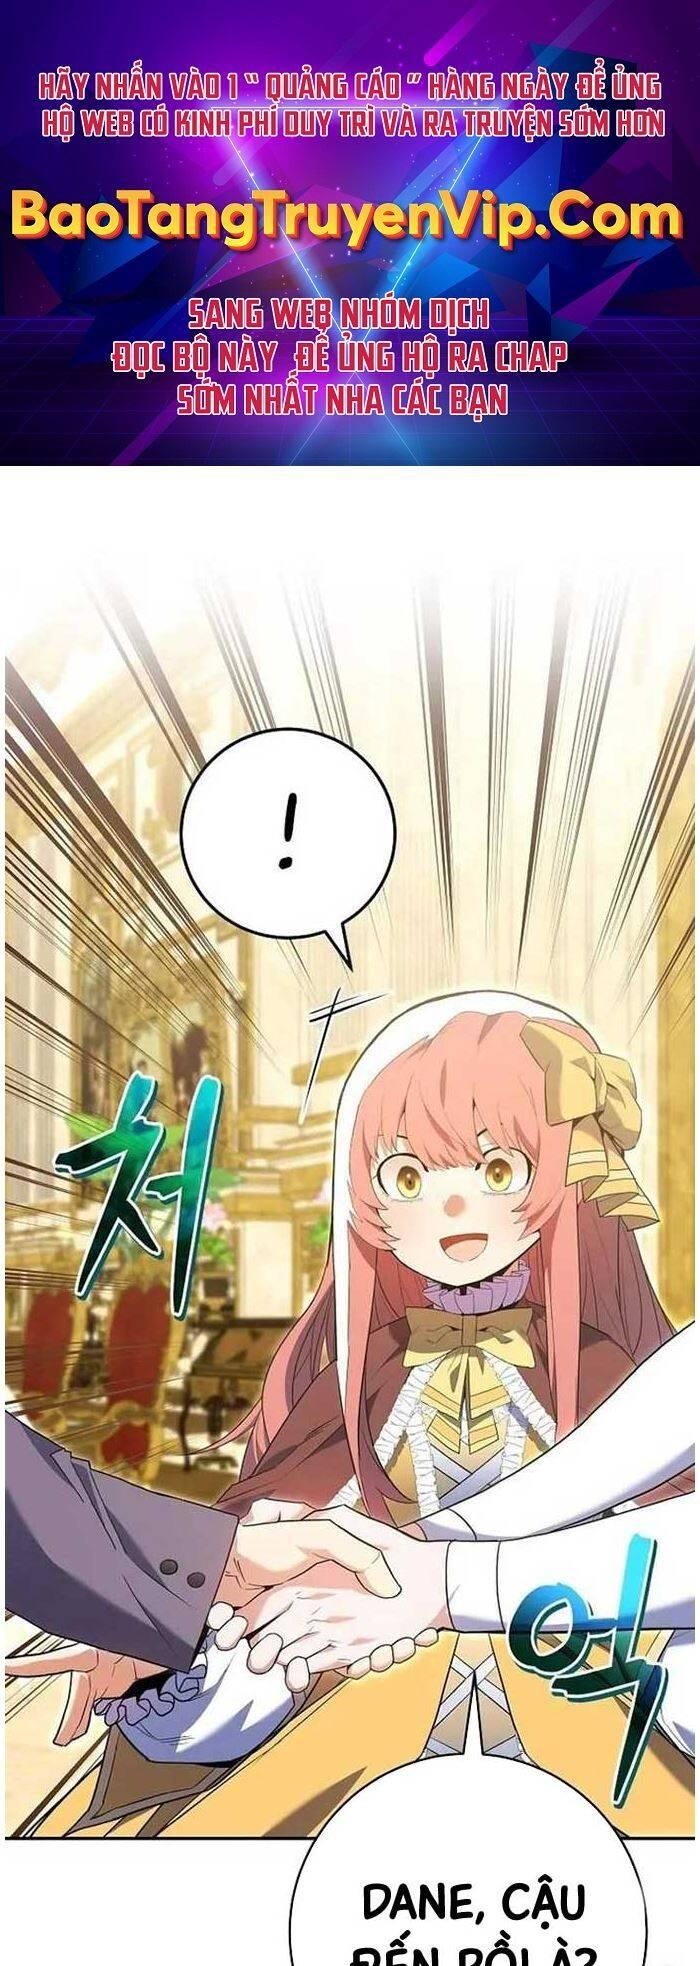quangcao: (3, 0, 700, 468)
